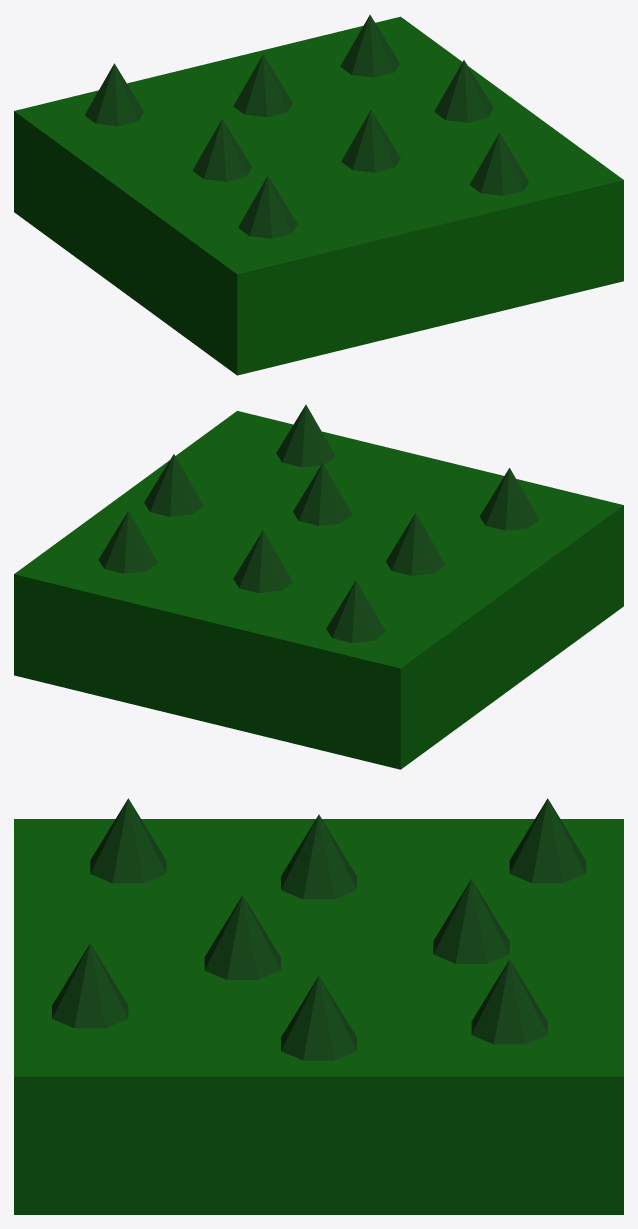
File: saplings.obj
3 views of the same model, one above another, from view 1: azimuth 30°, elevation 25°; view 2: azimuth 150°, elevation 25°; view 3: azimuth 270°, elevation 25° (orthographic). The views are drawn at different scales.
Parts seen in each view (by area): view 1: grass, cone; view 2: grass, cone; view 3: grass, cone.
Part boxes in pixels (bbox=[...]): grass: bbox=[14, 16, 623, 375]; cone: bbox=[84, 15, 529, 238]; grass: bbox=[14, 411, 623, 769]; cone: bbox=[98, 404, 539, 642]; grass: bbox=[14, 819, 623, 1214]; cone: bbox=[52, 798, 585, 1060].
Size of the model in its own units: 0.25 by 0.0938 by 0.25.
1 material, 1 textured.
